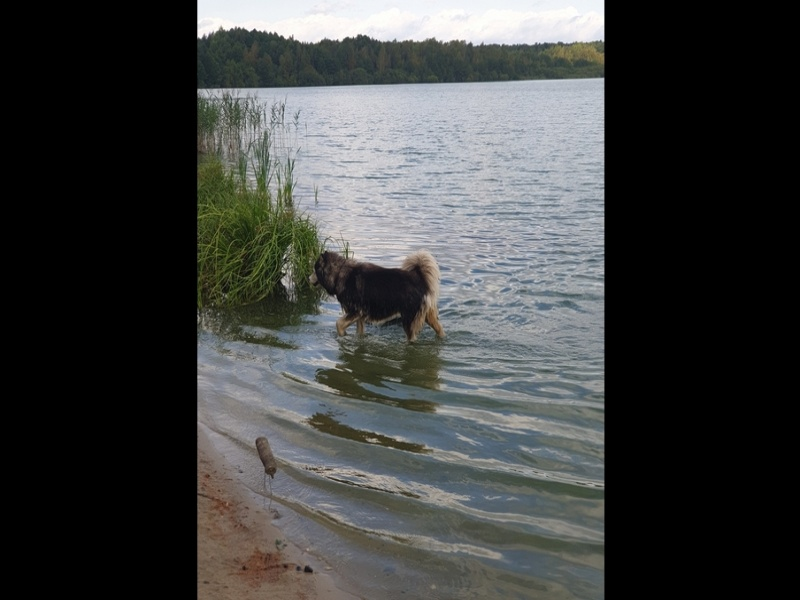dog: (307, 247, 455, 353)
